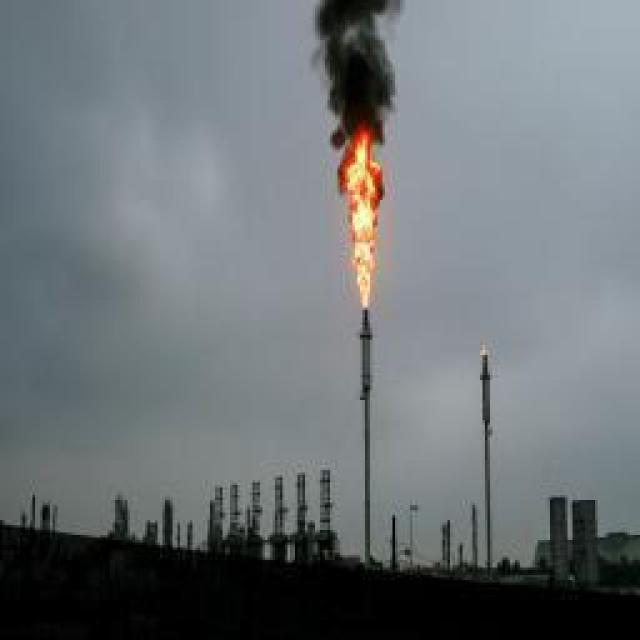fire: (345, 133, 377, 309)
smoke: (313, 0, 396, 205)
